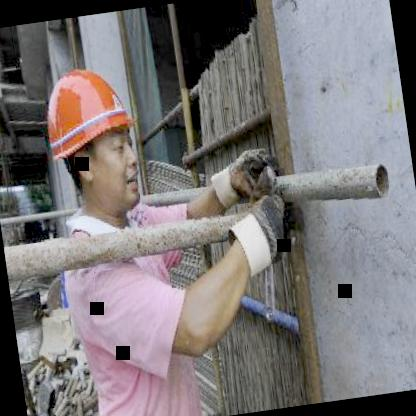helmet: (32, 50, 157, 238)
